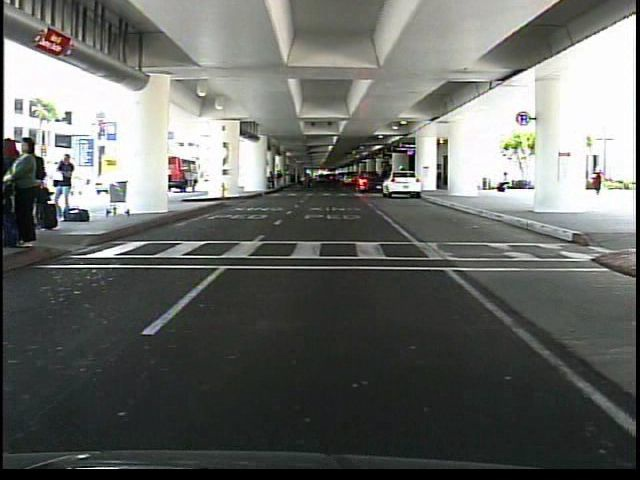person: (53, 148, 77, 218), (586, 163, 609, 203), (494, 167, 511, 199)
